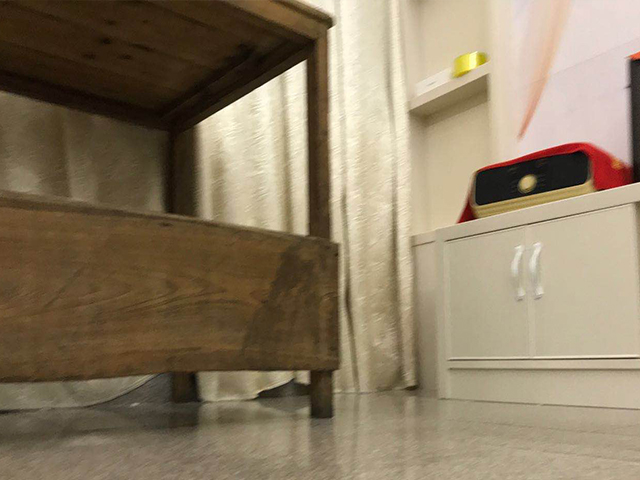cabinet: (409, 182, 640, 410)
curtain: (1, 1, 420, 409)
table: (1, 3, 342, 422)
